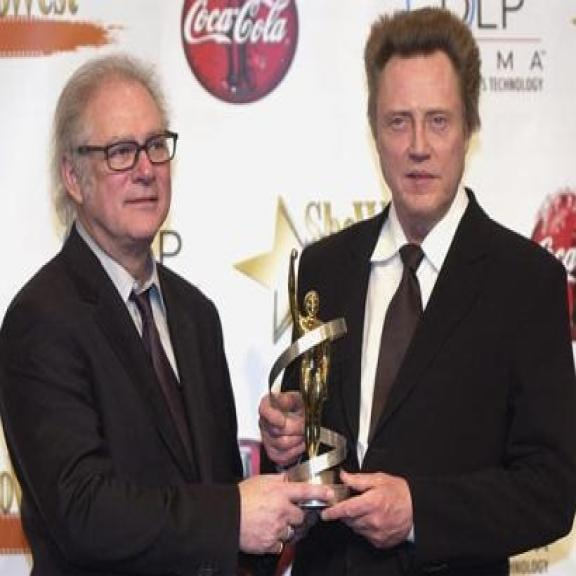face: (57, 100, 176, 246), (370, 67, 478, 221)
